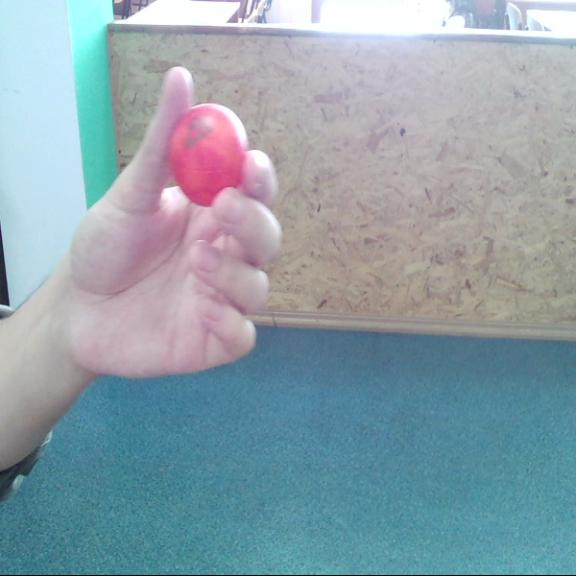ball: (170, 104, 252, 206)
